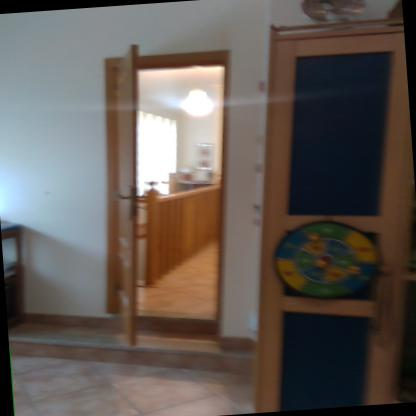semi: (80, 32, 261, 350)
